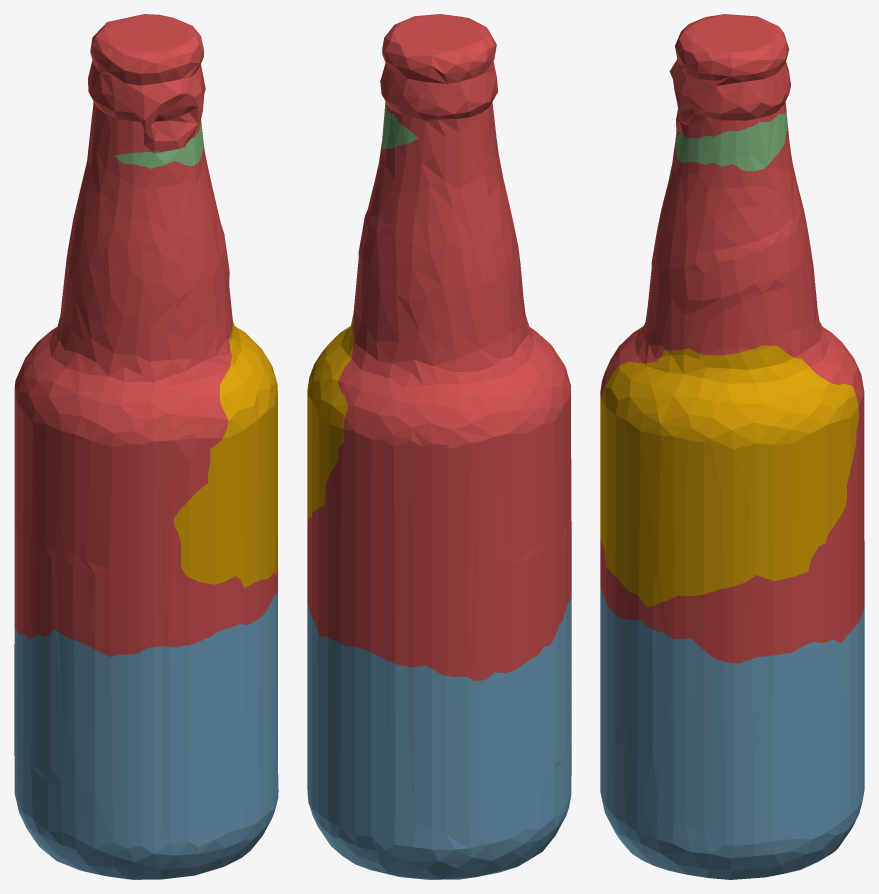
File: fractured_9_4pcs.glb
3 views of the same model, side by side, from view 1: azimuth 30°, elevation 25°; view 2: azimuth 150°, elevation 25°; view 3: azimuth 270°, elevation 25° (orthographic).
Visible parts, largest first — view 1: piece_1.obj, piece_2.obj, piece_0.obj, piece_3.obj; view 2: piece_1.obj, piece_2.obj, piece_0.obj, piece_3.obj; view 3: piece_1.obj, piece_2.obj, piece_0.obj, piece_3.obj.
Part boxes in pixels (<box>): piece_1.obj: <box>14,14,277,656</box>; piece_2.obj: <box>14,587,278,879</box>; piece_0.obj: <box>174,322,277,587</box>; piece_3.obj: <box>114,120,203,168</box>; piece_1.obj: <box>307,14,571,680</box>; piece_2.obj: <box>307,597,571,879</box>; piece_0.obj: <box>307,313,353,527</box>; piece_3.obj: <box>381,103,496,149</box>; piece_1.obj: <box>600,14,864,663</box>; piece_2.obj: <box>600,587,864,879</box>; piece_0.obj: <box>600,345,858,607</box>; piece_3.obj: <box>674,112,787,171</box>.
Size of the model in its own units: 0.2984 by 1 by 0.2976.
